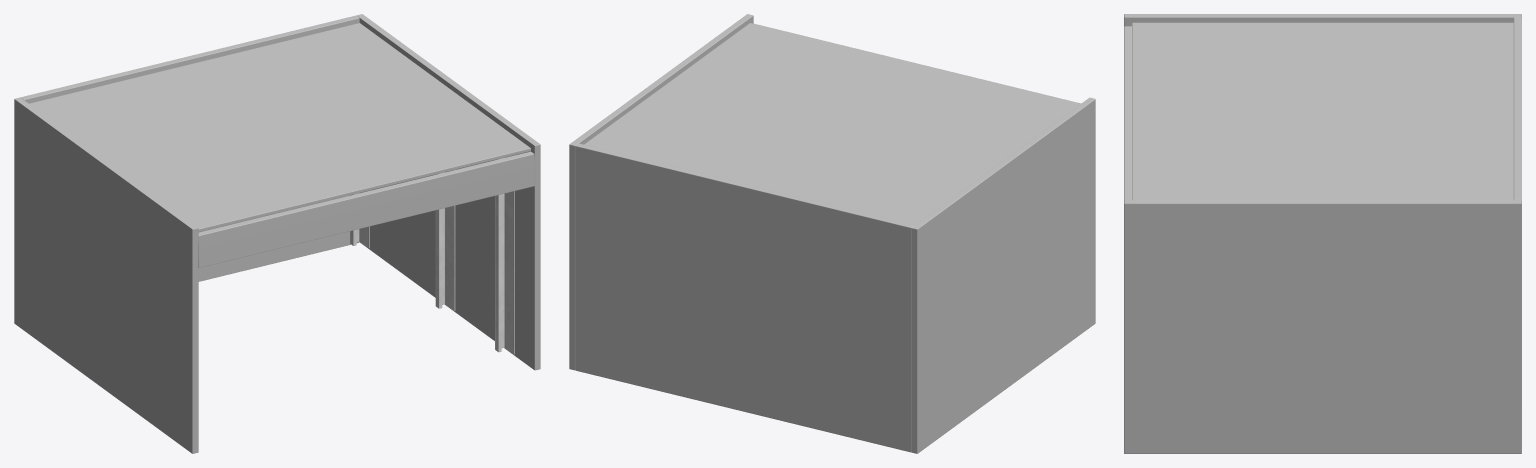
The model's file is SM_Kitchen_11_Base.obj.
3 views of the same model, side by side, from view 1: azimuth 30°, elevation 25°; view 2: azimuth 150°, elevation 25°; view 3: azimuth 270°, elevation 25° (orthographic). The views are drawn at different scales.
Parts seen in each view (by area): view 1: SM_Kitchen_11_Base; view 2: SM_Kitchen_11_Base; view 3: SM_Kitchen_11_Base.
Boxes of the visible parts, left/top/right/bottom form: SM_Kitchen_11_Base: left=14, top=14, right=540, bottom=453; SM_Kitchen_11_Base: left=569, top=14, right=1095, bottom=453; SM_Kitchen_11_Base: left=1124, top=14, right=1521, bottom=453.
Bounding box in the file's own units: 0.8999 × 0.5549 × 0.798.
Materials: 2 (1 with a texture image).
